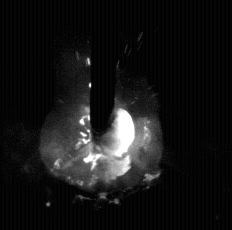arame: (91, 0, 115, 144)
poca: (38, 0, 164, 230)
